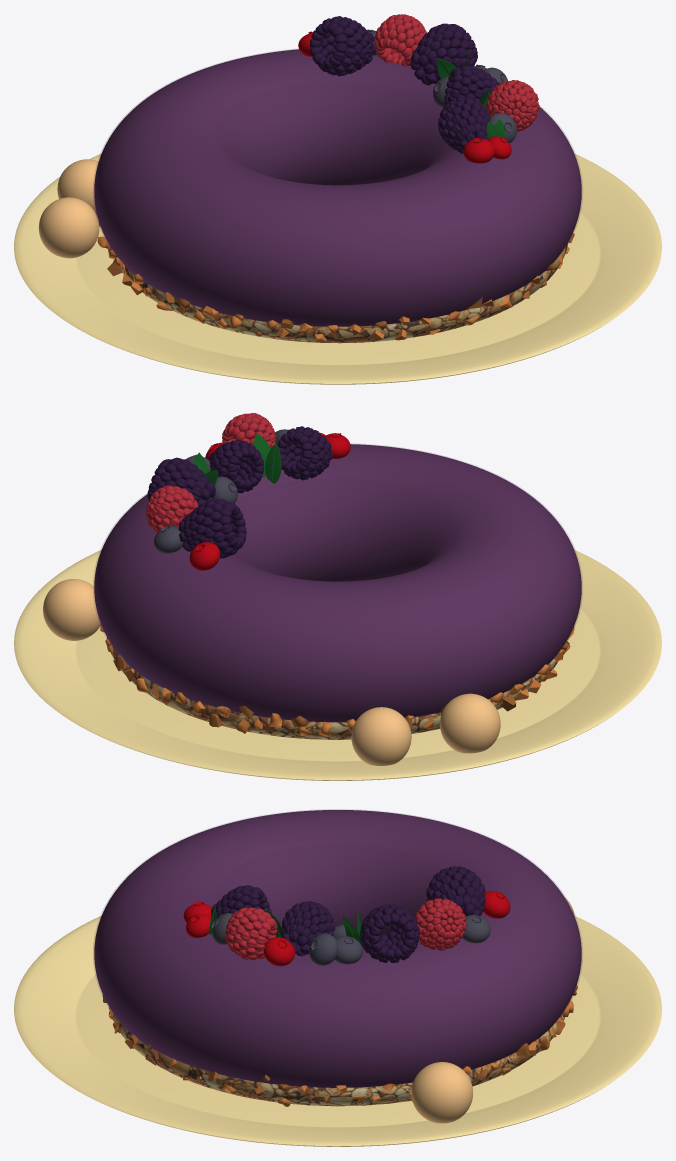
The model's file is cake (2).glb.
3 renders of one model, top to bottom at view 1: azimuth 30°, elevation 25°; view 2: azimuth 150°, elevation 25°; view 3: azimuth 270°, elevation 25°, orthographic.
Visible parts, largest first — view 1: Cake, Plate, Nuts_big, Berry, Sphere.001, Berry.001, Berry.002, Rasp, Rasp.001, Icosphere, Berry.003, Lingon.002; view 2: Cake, Plate, Nuts_big, Sphere.001, Icosphere, Berry, Sphere, Berry.002, Berry.003, Berry.001, Rasp, Rasp.001 (+2 smaller); view 3: Cake, Plate, Nuts_big, Sphere, Berry.001, Rasp, Rasp.001, Berry, Berry.003, Berry.002, Blueberry.003, Lingon.001 (+5 smaller).
Boxes of the visible parts, box(x1,y1,x2,y2) form: Cake: box(94, 49, 581, 326); Plate: box(14, 153, 661, 384); Nuts_big: box(109, 241, 568, 343); Berry: box(309, 16, 375, 76); Sphere.001: box(38, 197, 99, 258); Berry.001: box(410, 23, 477, 85); Berry.002: box(438, 96, 490, 153); Rasp: box(374, 14, 426, 66); Rasp.001: box(486, 80, 539, 131); Icosphere: box(57, 159, 98, 216); Berry.003: box(444, 65, 500, 105); Lingon.002: box(463, 137, 494, 163); Cake: box(94, 444, 581, 722); Plate: box(14, 550, 661, 780); Nuts_big: box(106, 637, 562, 739); Sphere.001: box(440, 693, 500, 753); Icosphere: box(351, 707, 411, 765); Berry: box(178, 499, 246, 558); Sphere: box(43, 579, 100, 640); Berry.002: box(277, 426, 333, 480); Berry.003: box(208, 440, 263, 493); Berry.001: box(147, 457, 215, 506); Rasp: box(146, 485, 198, 532); Rasp.001: box(222, 413, 275, 447); Cake: box(94, 810, 581, 1087); Plate: box(14, 915, 661, 1146); Nuts_big: box(111, 1014, 565, 1106); Sphere: box(411, 1062, 472, 1123); Berry.001: box(360, 904, 419, 962); Rasp: box(414, 898, 466, 950); Rasp.001: box(225, 907, 276, 960); Berry: box(426, 866, 485, 916); Berry.003: box(280, 901, 335, 956); Berry.002: box(211, 885, 271, 917); Blueberry.003: box(309, 933, 337, 965); Lingon.001: box(263, 937, 294, 966).
Size of the model in its own units: 104 by 32.35 by 104.
13 materials, 1 textured.
